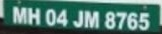character: (12, 5, 27, 25), (84, 9, 99, 29), (27, 7, 40, 26), (56, 8, 68, 27), (72, 9, 84, 28), (115, 11, 127, 29), (126, 12, 138, 30), (104, 11, 115, 29), (138, 12, 149, 30), (45, 8, 55, 27)
